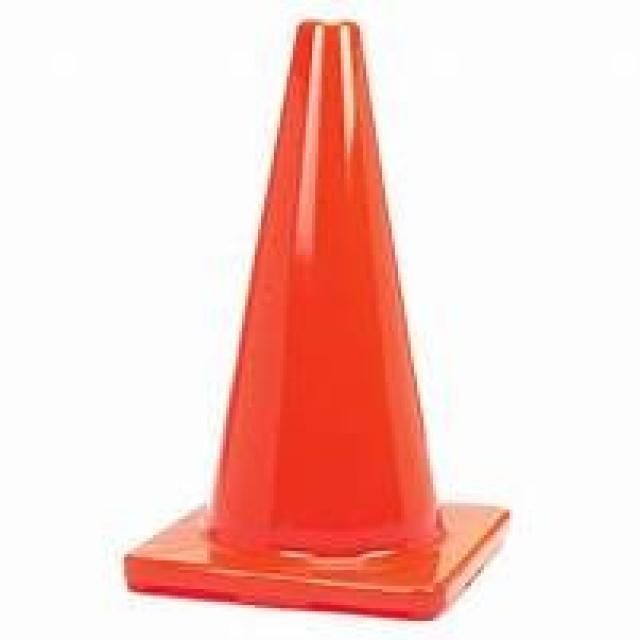traffic cone: (115, 14, 521, 630)
